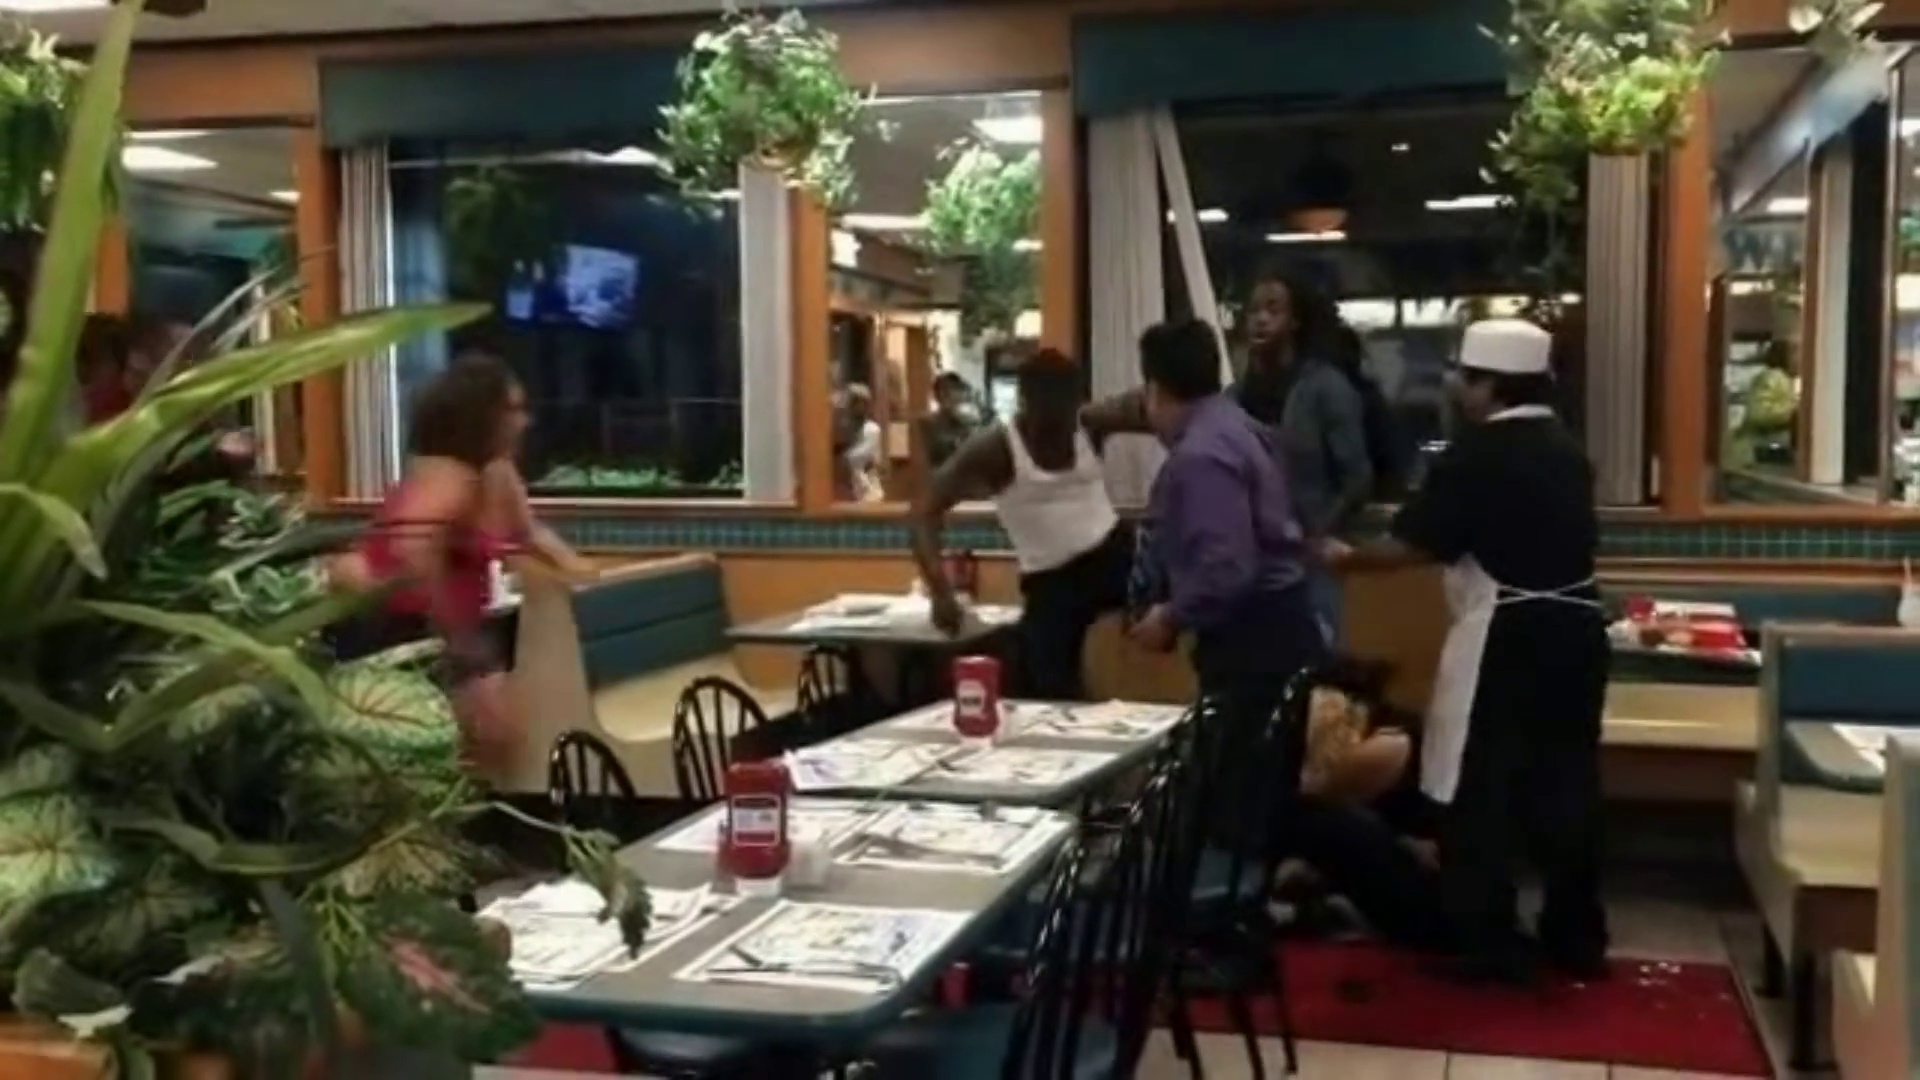normal: (1327, 316, 1619, 992), (376, 367, 601, 796)
